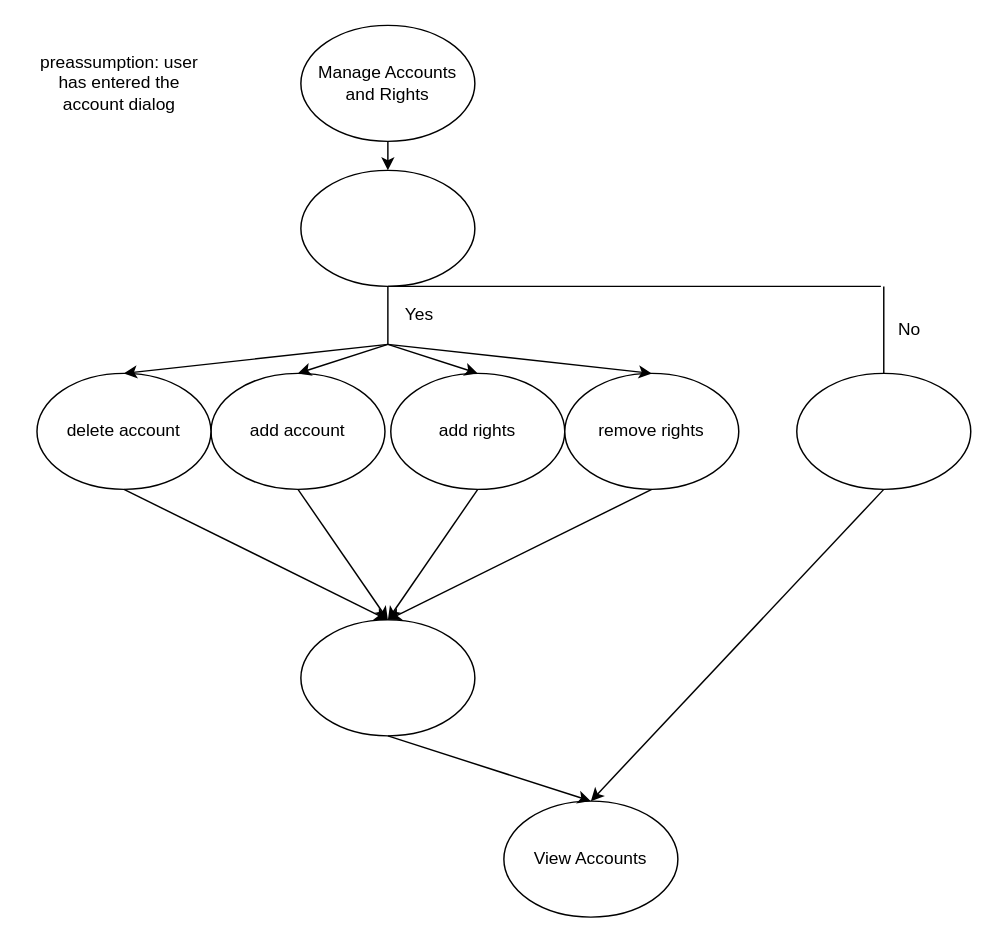
Some shapes in this 996 by 943 pixel diagram are drawn without their labels. Here are the shapes that lost their labels. From the top down, the centre of each, then its label:
the point at 387,227: User has needed (write) rights?
the point at 883,430: show error message
the point at 387,677: save configuration
